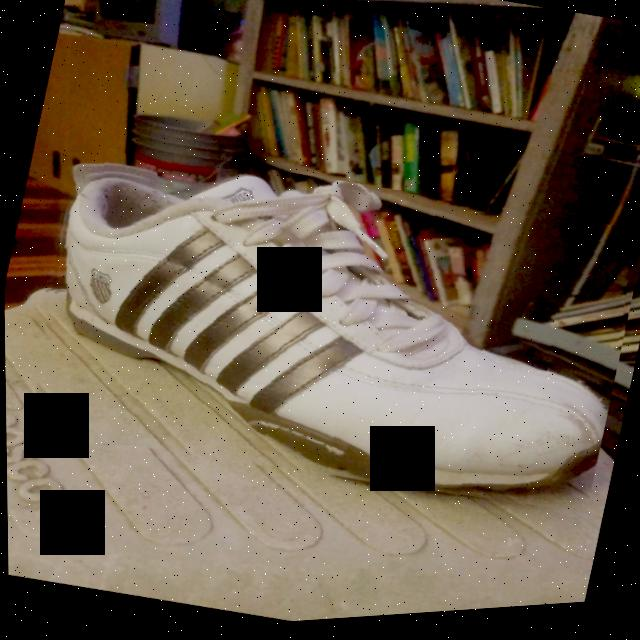shoe: (7, 107, 640, 559)
